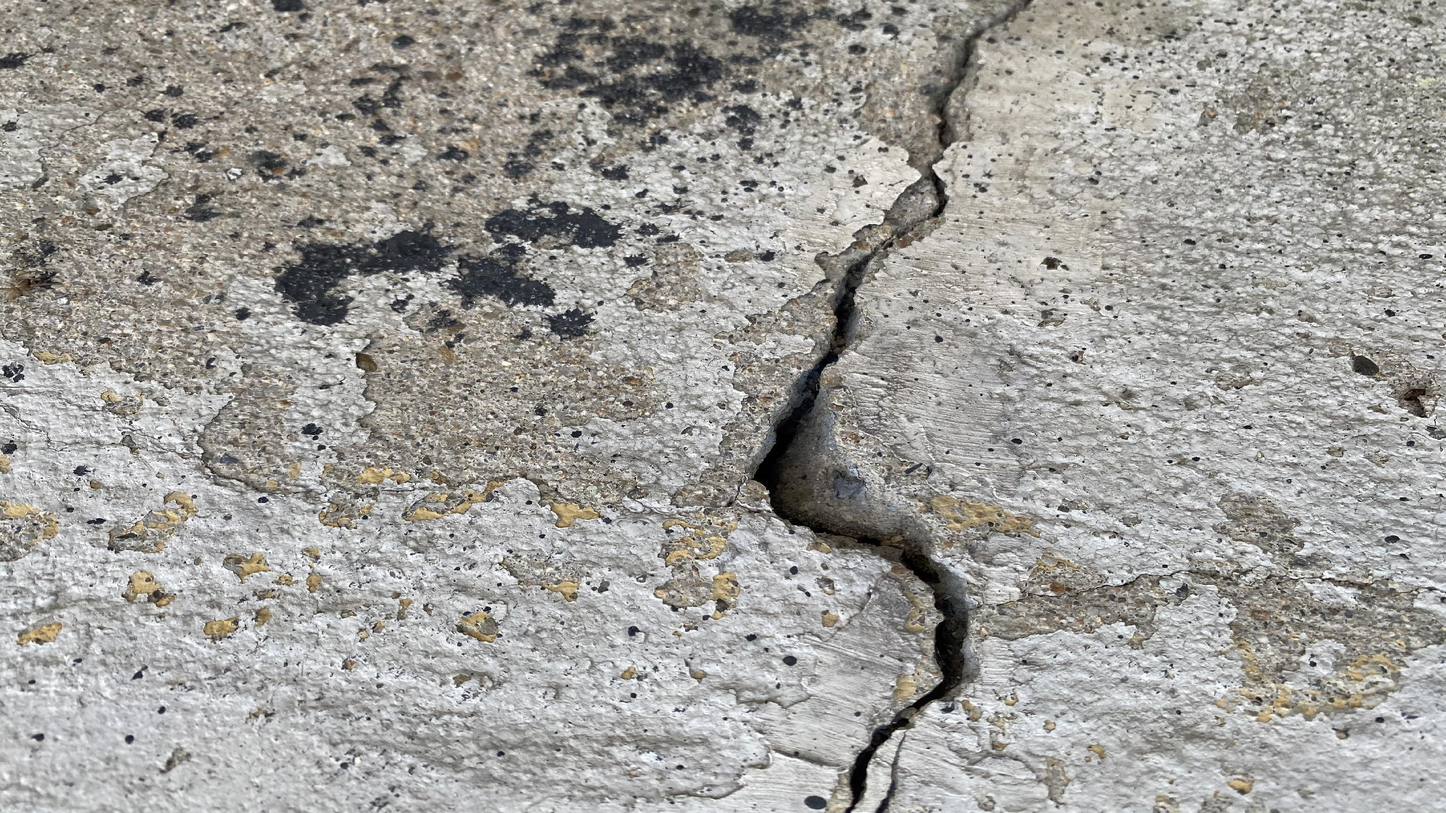crack: (750, 3, 1034, 812)
